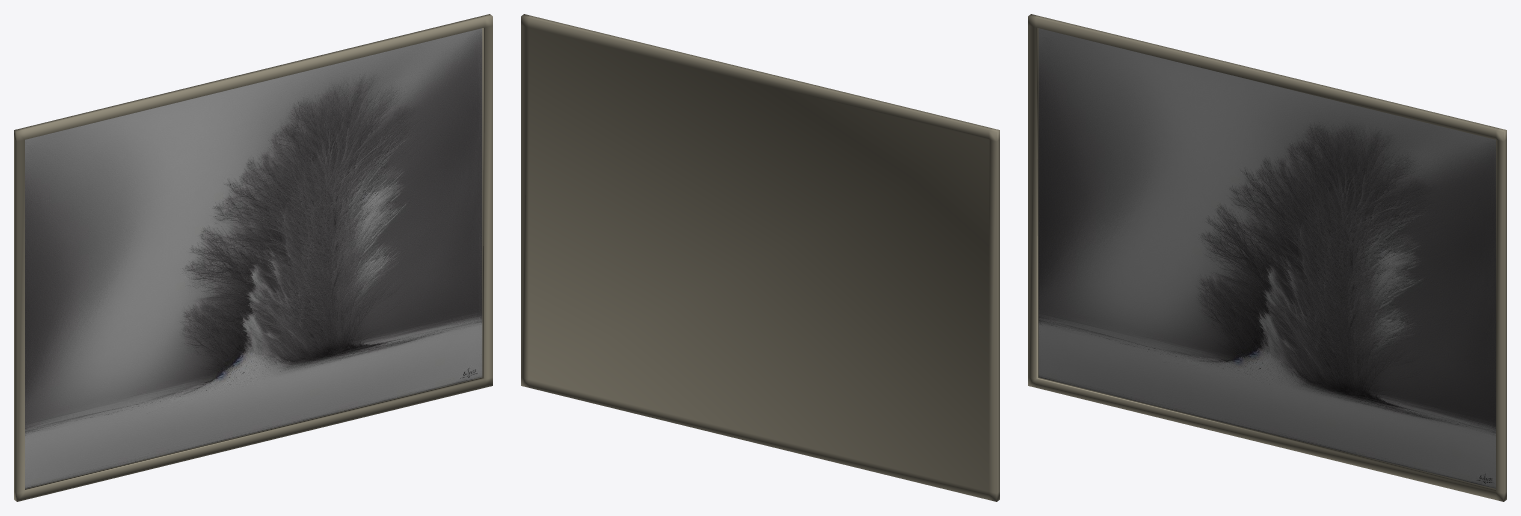
The model's file is Canvas 3.fbx.
The picture shows the model from 3 angles, left to right: view 1: azimuth 30°, elevation 25°; view 2: azimuth 150°, elevation 25°; view 3: azimuth 330°, elevation 25°; orthographic projection.
Visible parts, largest first — view 1: Painting_3; view 2: Painting_3; view 3: Painting_3.
Boxes of the visible parts, left/top/right/bottom form: Painting_3: left=14, top=14, right=492, bottom=501; Painting_3: left=521, top=14, right=999, bottom=501; Painting_3: left=1028, top=14, right=1506, bottom=501.
Bounding box in the file's own units: 106 × 79.01 × 1.2.
2 materials, 1 textured.
